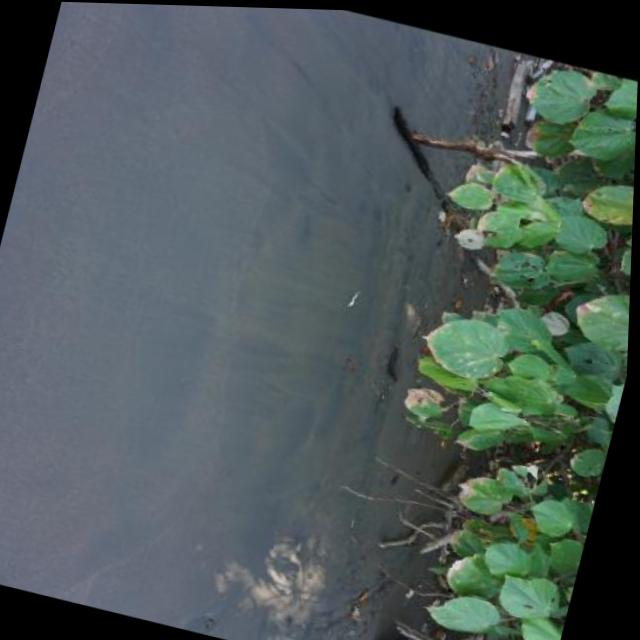plastic: (347, 289, 360, 306)
